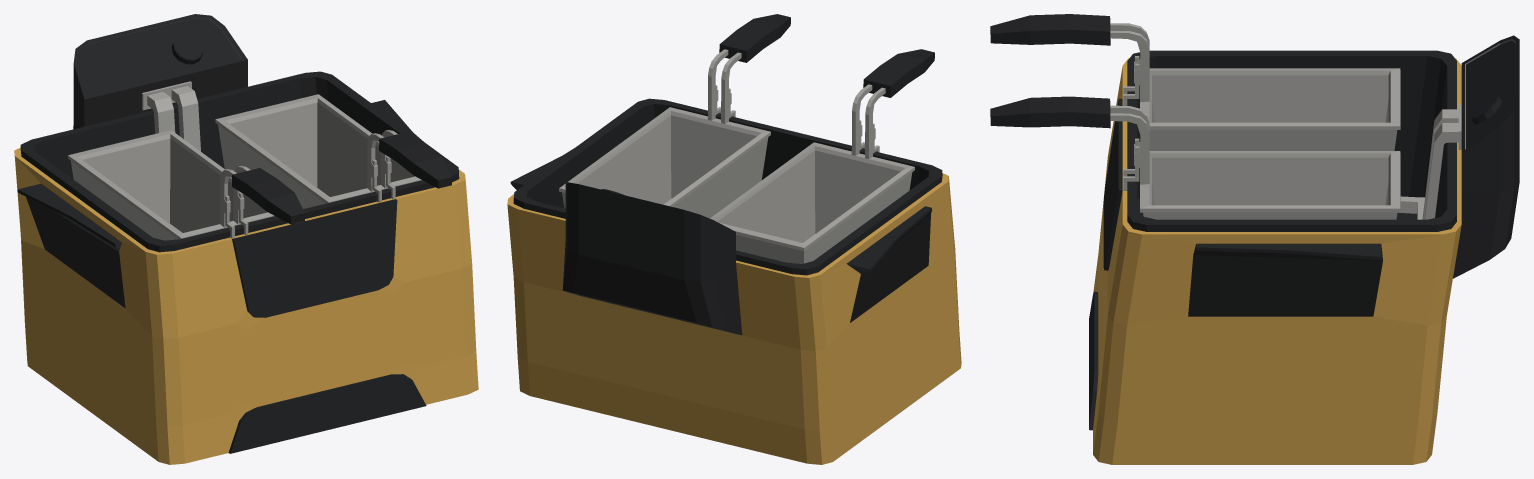
Rendered from deepfryer_01_D.gltf.
3 renders of one model, left to right at view 1: azimuth 30°, elevation 25°; view 2: azimuth 150°, elevation 25°; view 3: azimuth 270°, elevation 25°, orthographic. The views are drawn at different scales.
Visible parts, largest first — view 1: deepfryer_01_D, sievefordeepfryer_02_D, sievefordeepfryer_01_D, Buttonfordeepfryer_01_D; view 2: deepfryer_01_D, sievefordeepfryer_01_D, sievefordeepfryer_02_D; view 3: deepfryer_01_D, sievefordeepfryer_01_D, sievefordeepfryer_02_D, Buttonfordeepfryer_01_D.
Part boxes in pixels (<box>): deepfryer_01_D: <box>14,14,478,464</box>; sievefordeepfryer_02_D: <box>215,94,452,208</box>; sievefordeepfryer_01_D: <box>68,130,304,240</box>; Buttonfordeepfryer_01_D: <box>171,33,203,64</box>; deepfryer_01_D: <box>507,98,961,464</box>; sievefordeepfryer_01_D: <box>710,49,934,263</box>; sievefordeepfryer_02_D: <box>559,14,790,218</box>; deepfryer_01_D: <box>1089,35,1519,464</box>; sievefordeepfryer_01_D: <box>990,14,1400,150</box>; sievefordeepfryer_02_D: <box>990,96,1400,219</box>; Buttonfordeepfryer_01_D: <box>1469,94,1501,124</box>.
Bounding box in the file's own units: 0.575 × 0.4175 × 0.6241.
1 material, 1 textured.
